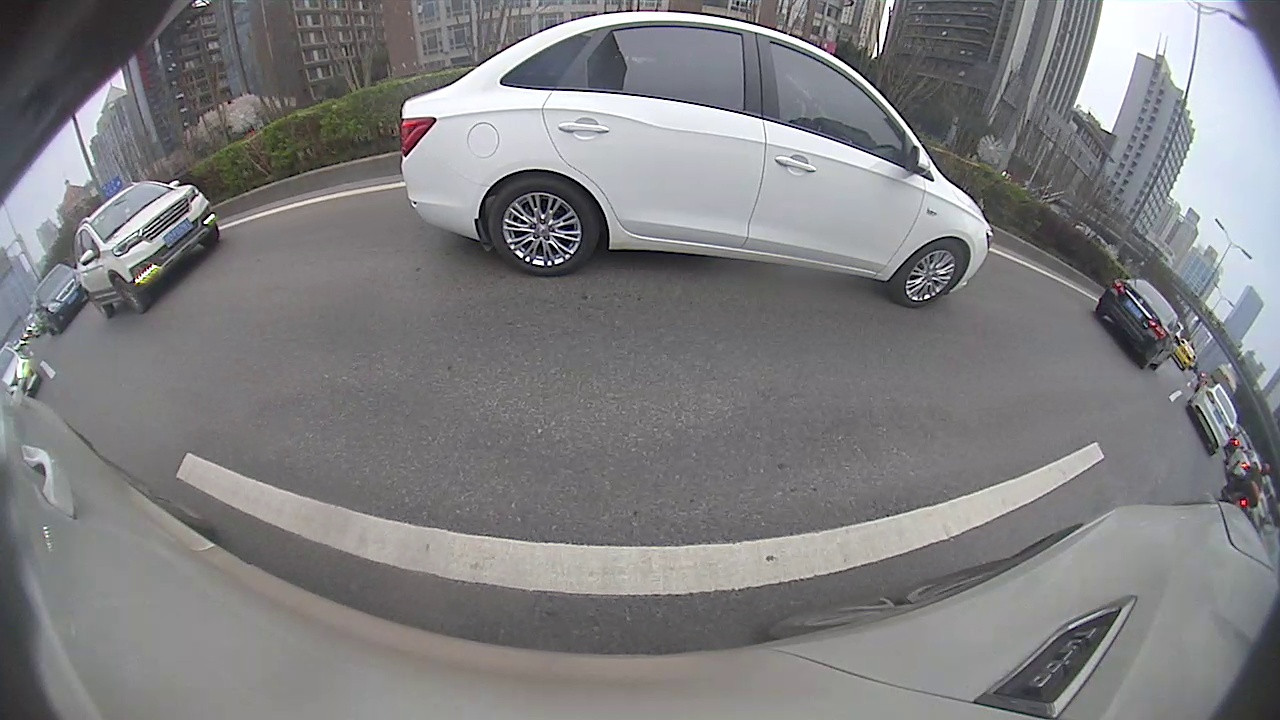car: (397, 9, 996, 311), (71, 178, 221, 320), (1093, 276, 1183, 372), (1186, 382, 1239, 454)
front: (894, 245, 972, 306), (114, 272, 142, 316)
rear: (484, 178, 600, 276)
